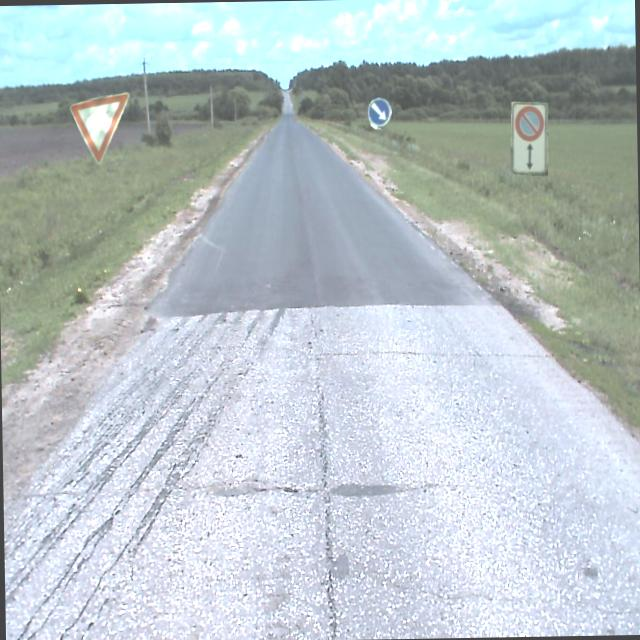road: (3, 118, 640, 640)
